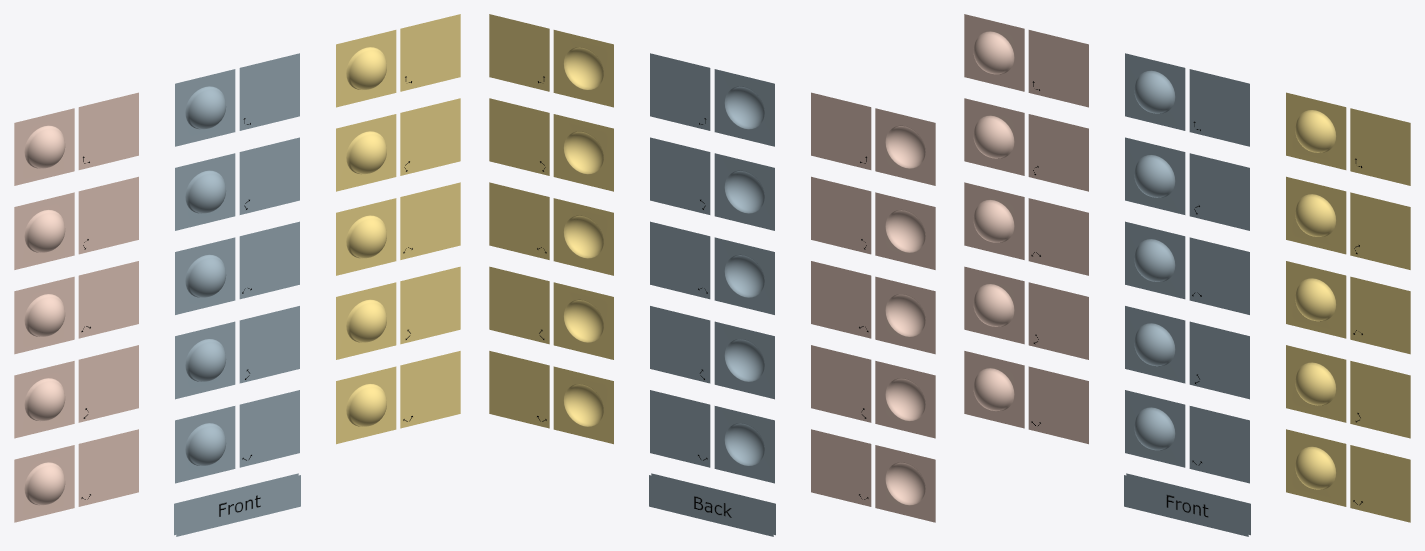
The model's file is NormalTangentTest.gltf.
The picture shows the model from 3 angles, left to right: view 1: azimuth 30°, elevation 25°; view 2: azimuth 150°, elevation 25°; view 3: azimuth 330°, elevation 25°; orthographic projection.
Parts seen in each view (by area): view 1: NormalTangentTest_low; view 2: NormalTangentTest_low; view 3: NormalTangentTest_low.
Boxes of the visible parts, <box> form: NormalTangentTest_low: <box>14,14,460,536</box>; NormalTangentTest_low: <box>489,14,935,536</box>; NormalTangentTest_low: <box>964,14,1410,536</box>.
Bounding box in the file's own units: 2.22 × 2.15 × 0.0905.
1 material, 1 textured.
